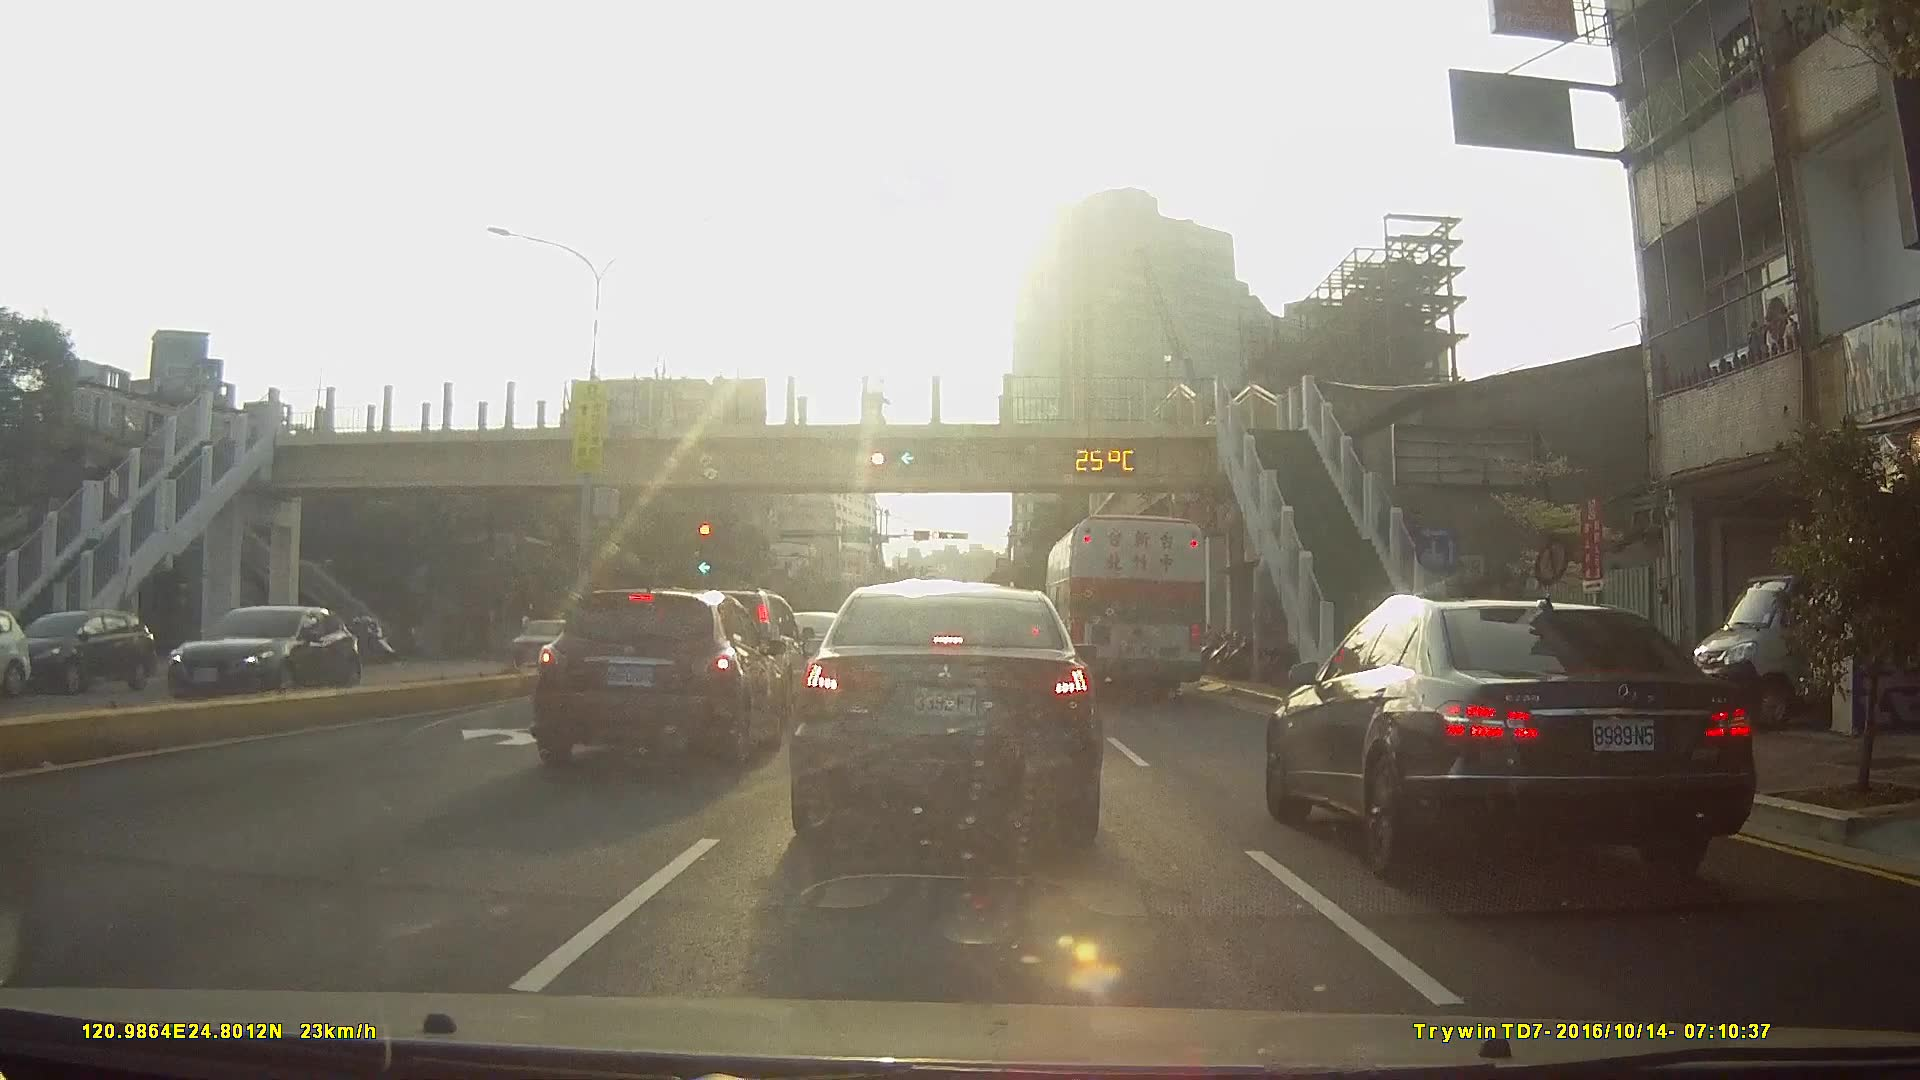pedestrian: (865, 380, 887, 428)
vehicle: (1260, 592, 1751, 883), (784, 579, 1105, 847), (525, 582, 790, 775), (1043, 513, 1208, 700), (147, 602, 349, 708), (11, 606, 155, 693), (504, 615, 582, 666), (0, 608, 29, 699)
